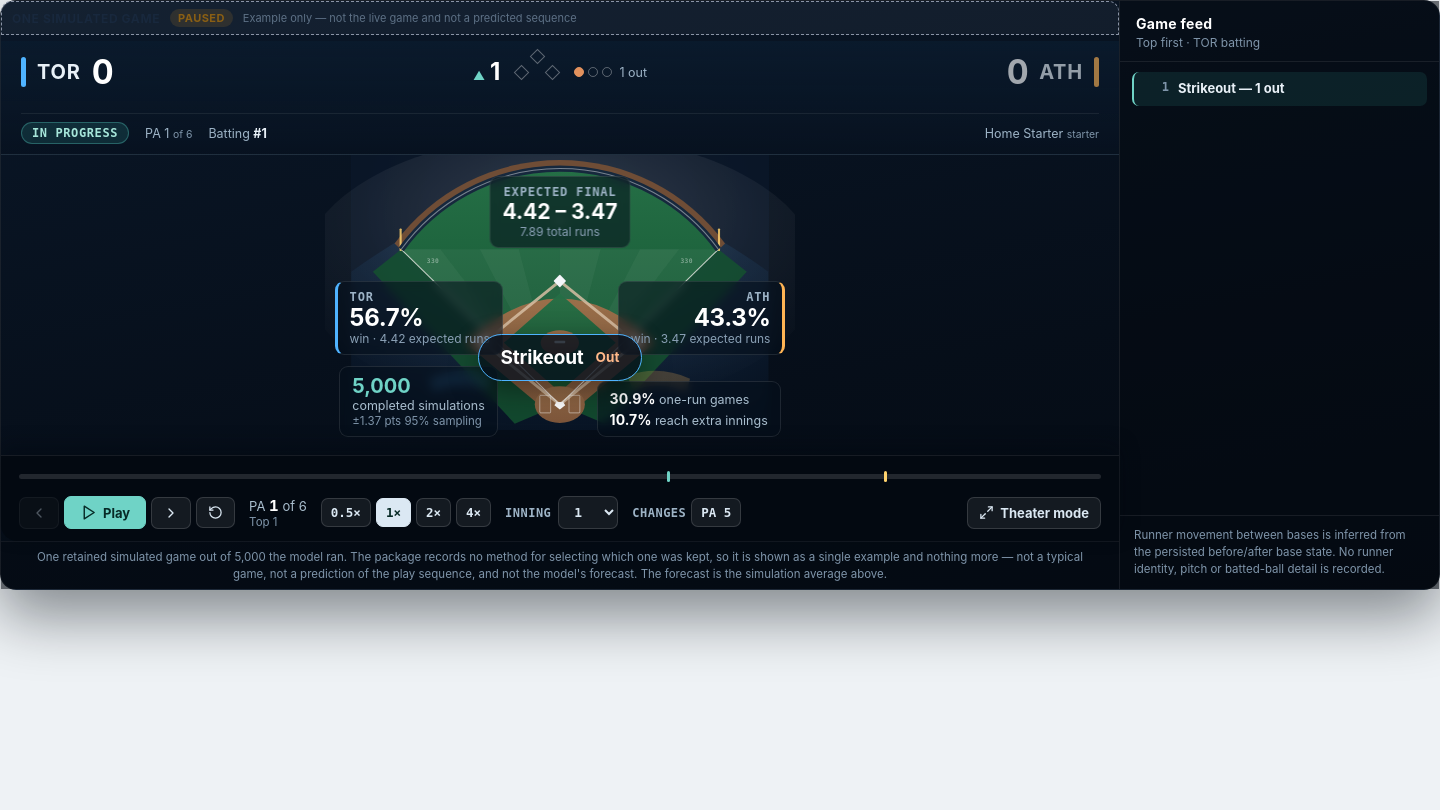
it: the scorebug reflects persisted state › names the pitcher only while the governed state is STARTER
Expected: the text "Home Starter" is shown, [985,126,1063,140]
Set the slider named "Plate appearance 1 of 6" to "4" at (560, 498), box [1,455,1119,541]
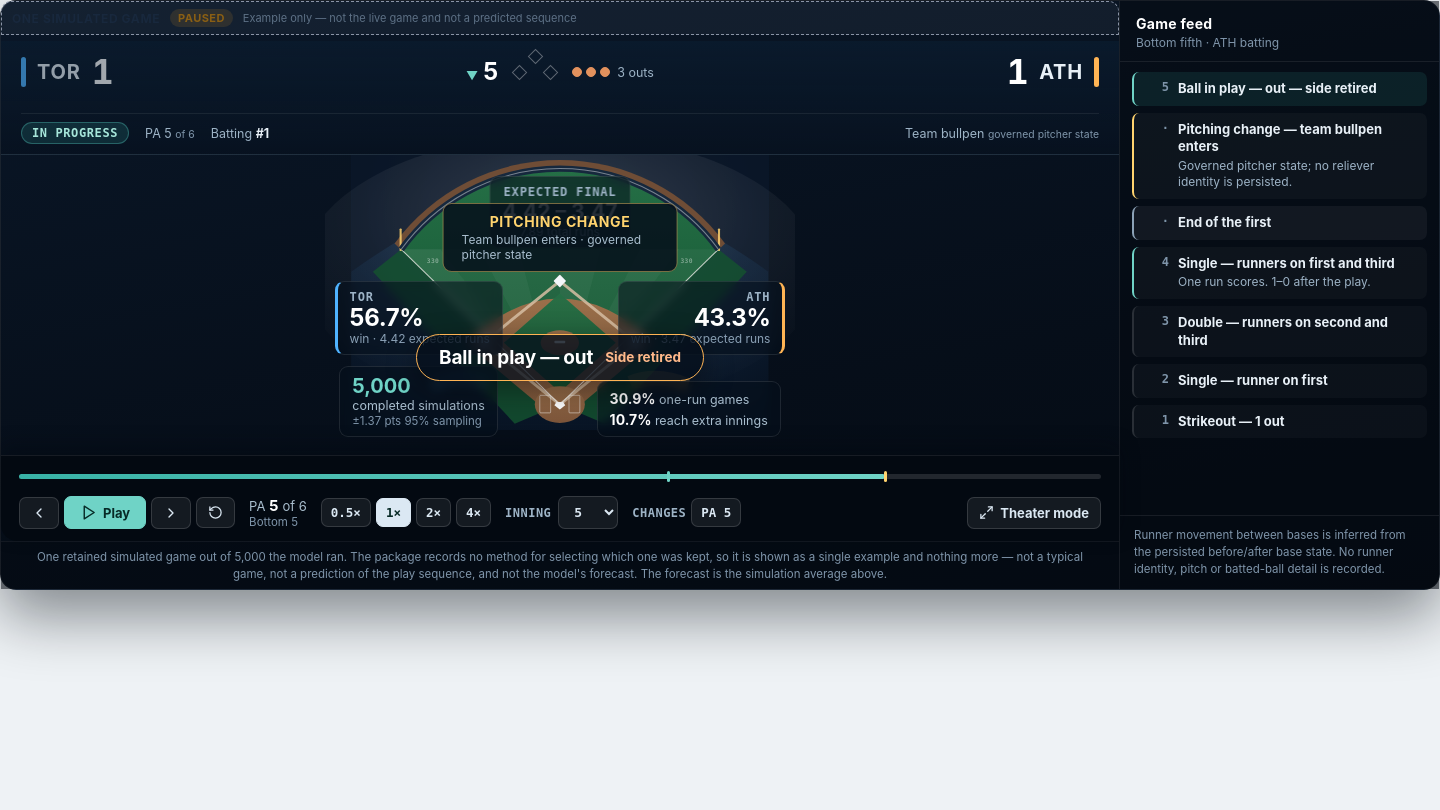
Expected: the text "Team bullpen" is shown, [905,126,984,140]
Expected: the text "Home Starter" is gone
